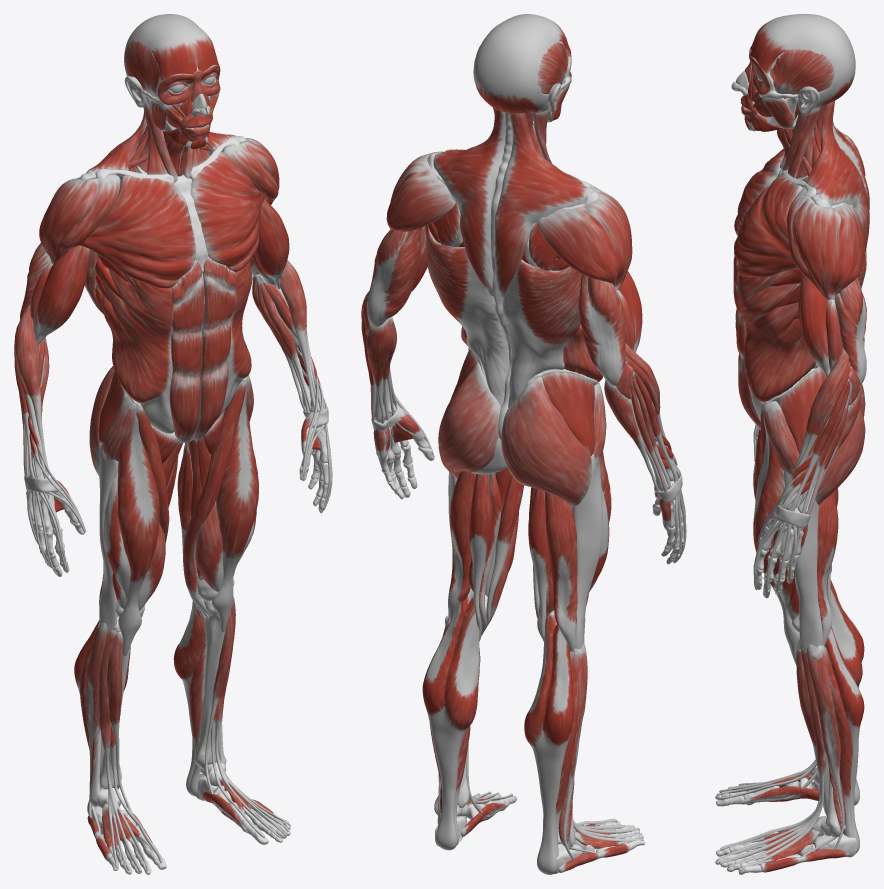
Rendered from male_full_body_ecorche.glb.
The picture shows the model from 3 angles, left to right: view 1: azimuth 30°, elevation 25°; view 2: azimuth 150°, elevation 25°; view 3: azimuth 270°, elevation 25°; orthographic projection. The views are drawn at different scales.
Parts seen in each view (by area): view 1: Object_23, Object_17, Object_29, Object_25, Object_31, Object_15, Object_33, Object_5, Object_7, Object_11, Object_27, Object_3 (+3 smaller); view 2: Object_13, Object_7, Object_3, Object_9, Object_5, Object_33, Object_15, Object_31, Object_29, Object_11, Object_25, Object_27 (+4 smaller); view 3: Object_23, Object_25, Object_15, Object_29, Object_31, Object_5, Object_7, Object_3, Object_33, Object_13, Object_11, Object_17 (+3 smaller).
Boxes of the visible parts, <box> form: Object_23: <box>79,152,264,442</box>; Object_17: <box>103,377,258,656</box>; Object_29: <box>26,41,328,874</box>; Object_25: <box>85,595,290,872</box>; Object_31: <box>14,260,332,575</box>; Object_15: <box>124,14,220,149</box>; Object_33: <box>20,199,289,345</box>; Object_5: <box>39,138,279,263</box>; Object_7: <box>74,572,206,814</box>; Object_11: <box>24,76,328,631</box>; Object_27: <box>151,410,224,615</box>; Object_3: <box>89,366,253,476</box>; Object_13: <box>425,109,590,407</box>; Object_7: <box>422,595,578,874</box>; Object_3: <box>438,349,606,507</box>; Object_9: <box>448,471,577,651</box>; Object_5: <box>386,151,632,289</box>; Object_33: <box>367,226,642,385</box>; Object_15: <box>473,14,571,121</box>; Object_31: <box>361,291,686,562</box>; Object_29: <box>371,41,684,873</box>; Object_11: <box>371,83,682,649</box>; Object_25: <box>437,617,643,872</box>; Object_27: <box>485,467,554,629</box>; Object_23: <box>733,149,815,429</box>; Object_25: <box>717,644,849,872</box>; Object_15: <box>740,14,855,131</box>; Object_29: <box>715,49,857,874</box>; Object_31: <box>753,347,861,597</box>; Object_5: <box>786,127,865,299</box>; Object_7: <box>824,579,864,852</box>; Object_3: <box>763,368,865,504</box>; Object_33: <box>798,250,866,384</box>; Object_13: <box>770,101,869,368</box>; Object_11: <box>731,71,845,650</box>; Object_17: <box>753,402,799,665</box>.
Bounding box in the file's own units: 26.15 × 68.16 × 11.7.
16 materials, 14 textured.
